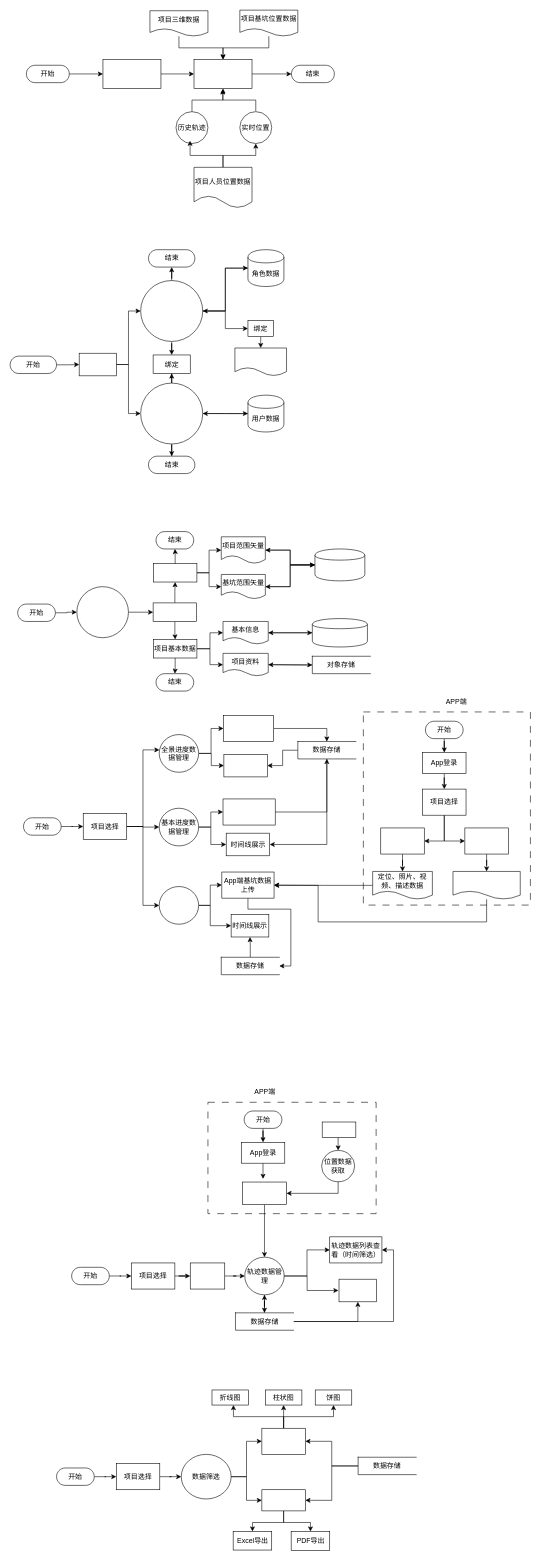
The diagram is 541 pixels wide and 1561 high, and some of its shapes have lost their labels. The shapes that lost their labels are listed below. From the top down, each one's box as (x1, y1, x2, y2) in pixels, then its label:
(102, 59, 161, 88): 选择项目
(193, 59, 252, 88): 三维可视化
(140, 280, 203, 341): 角色增删改查
(79, 353, 116, 376): 登录
(234, 347, 287, 376): 项目数据
(140, 383, 203, 444): 用户增删改查
(153, 563, 197, 582): 矢量数据
(314, 548, 365, 581): 失量数据存储
(76, 586, 128, 638): 项目增删改查
(153, 602, 197, 621): 项目编辑
(312, 618, 367, 647): 关系数据库存储
(223, 715, 274, 742): web端全景照片上传
(223, 754, 267, 777): 进度对比
(222, 798, 275, 825): App端基本数据照片、视频上传
(380, 827, 424, 854): 基本进度上报
(464, 827, 508, 854): 基坑进度上报
(159, 886, 199, 924): 基坑进度数据管理
(452, 871, 520, 899): 定位、照片、视频、深度、描述数据
(322, 1121, 356, 1138): 定位设备
(242, 1181, 287, 1205): 定位数据上报
(190, 1262, 225, 1289): 人员选择
(338, 1279, 377, 1302): 地图展示展示
(261, 1428, 305, 1454): 图表可视化
(261, 1489, 305, 1511): 数据导出
